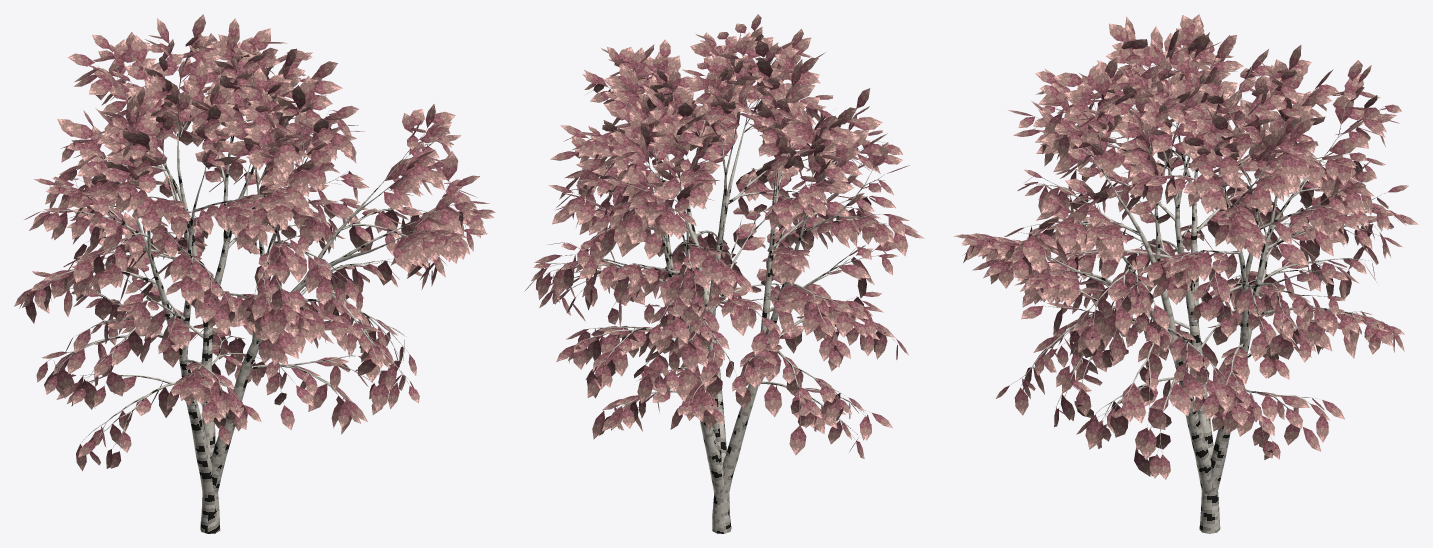
Rendered from tree.fbx.
The picture shows the model from 3 angles, left to right: view 1: azimuth 30°, elevation 25°; view 2: azimuth 150°, elevation 25°; view 3: azimuth 270°, elevation 25°; orthographic projection. The views are drawn at different scales.
Parts seen in each view (by area): view 1: leaves, tree; view 2: leaves, tree; view 3: leaves, tree.
Part boxes in pixels (bbox=[...]): leaves: bbox=[14, 14, 495, 470]; tree: bbox=[27, 40, 471, 533]; leaves: bbox=[525, 14, 924, 458]; tree: bbox=[543, 31, 896, 533]; leaves: bbox=[953, 14, 1418, 479]; tree: bbox=[979, 38, 1389, 533].
Size of the model in its own units: 1391 by 1678 by 1449.
